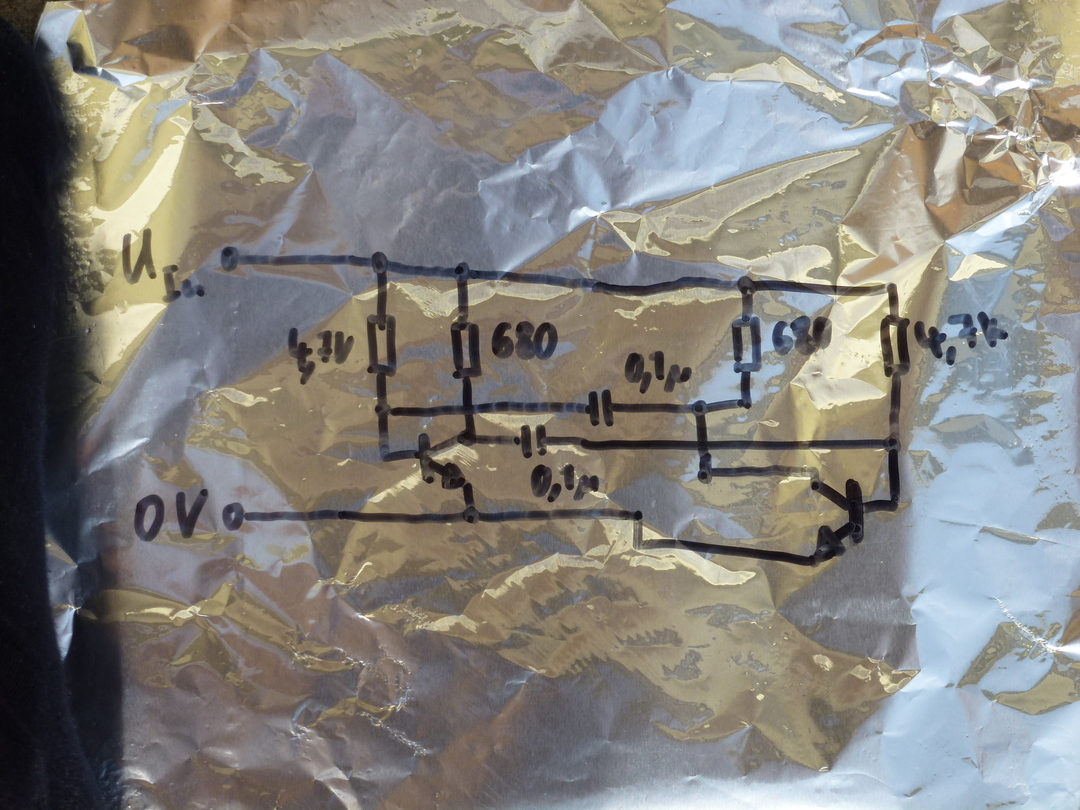capacitor.unpolarized: (585, 388, 618, 429), (518, 423, 549, 460)
crossover: (692, 437, 715, 454), (459, 401, 477, 418)
junction: (369, 250, 391, 276), (736, 274, 757, 297), (456, 427, 479, 447), (460, 506, 482, 526), (453, 261, 472, 284), (883, 433, 902, 455), (373, 402, 396, 420), (696, 465, 715, 485), (690, 399, 709, 417), (886, 497, 903, 514), (884, 278, 900, 296), (736, 396, 755, 411), (629, 507, 645, 524), (377, 449, 394, 464), (630, 537, 646, 552), (806, 465, 821, 479)
resistor: (729, 314, 765, 376), (365, 312, 398, 379), (879, 314, 912, 377), (449, 319, 483, 380)
terminal: (220, 501, 249, 533), (219, 244, 242, 274)
text: (120, 226, 207, 304), (912, 311, 1010, 367), (133, 488, 210, 543), (286, 326, 356, 386), (623, 349, 693, 395), (489, 319, 560, 363), (529, 463, 601, 504), (770, 314, 834, 357)
transistor: (808, 478, 866, 566), (416, 428, 471, 490)
